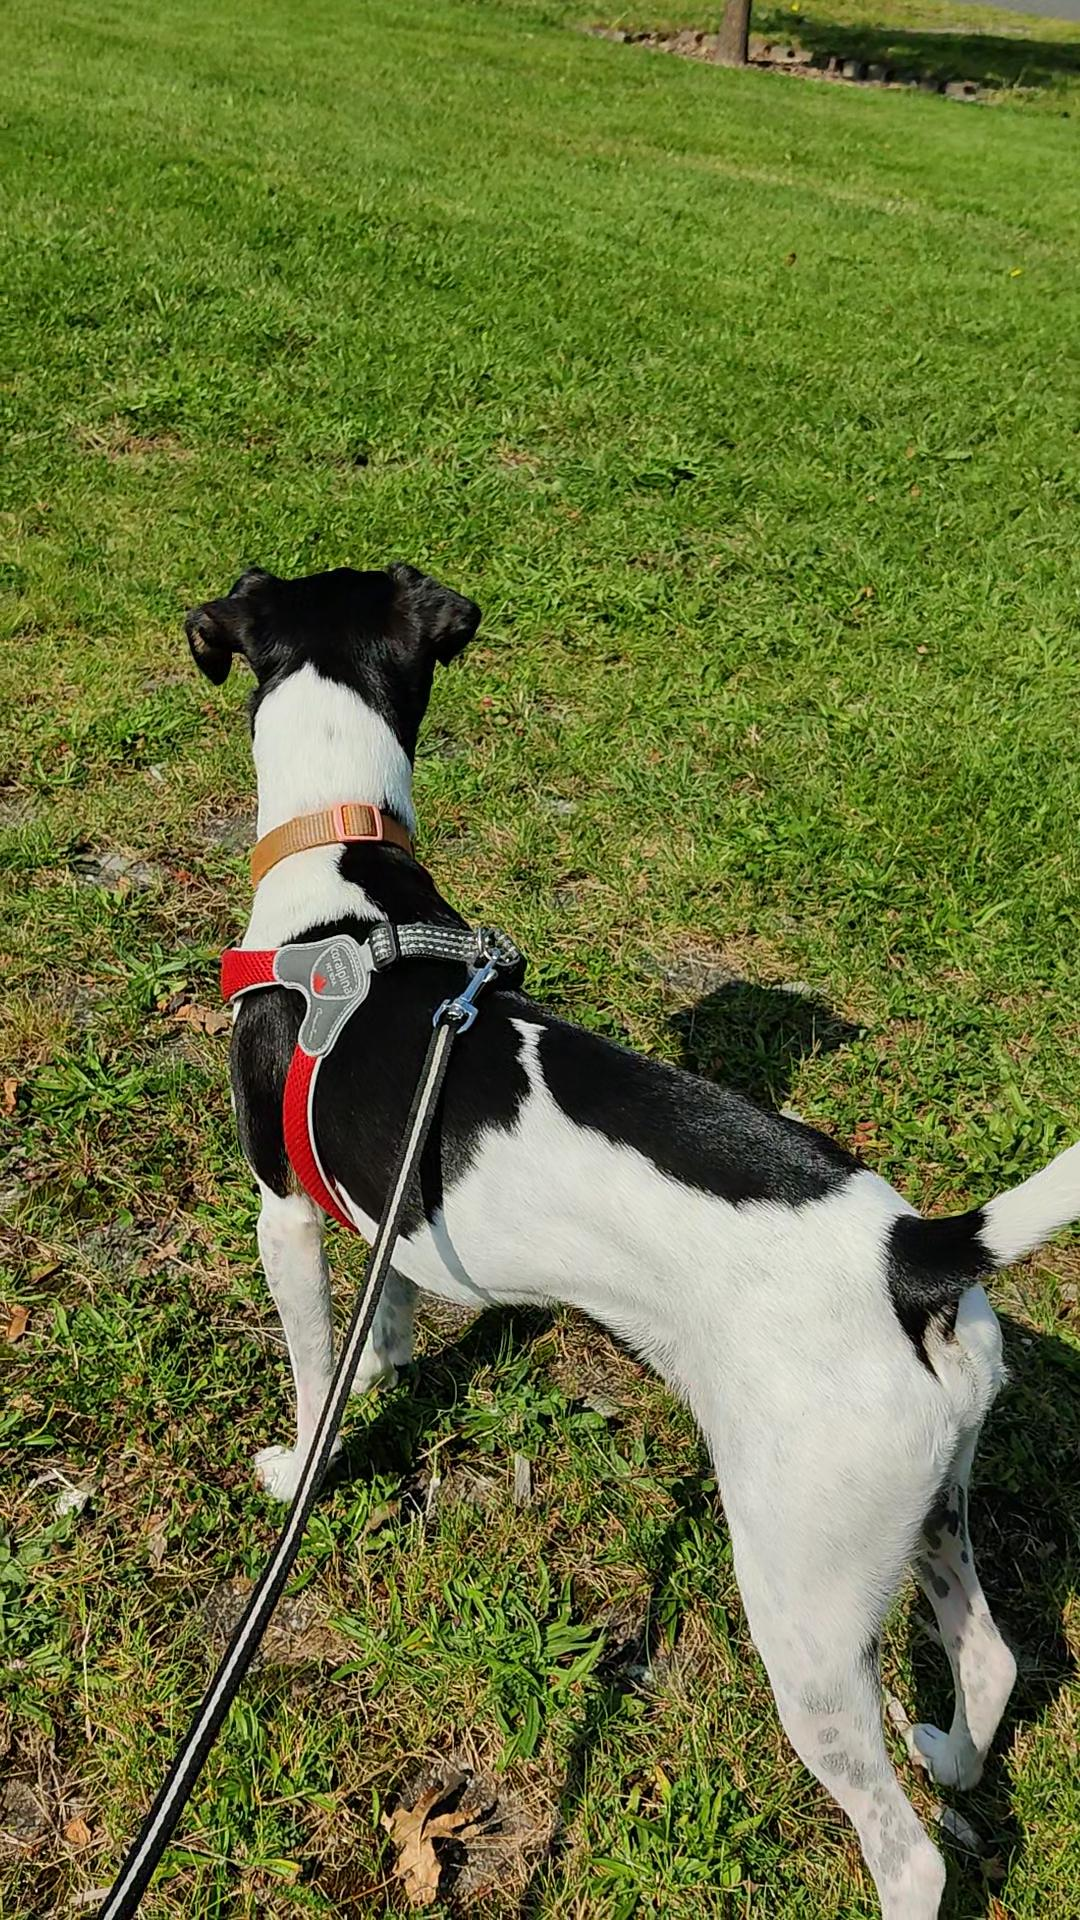Dog: (170, 551, 1079, 1919)
